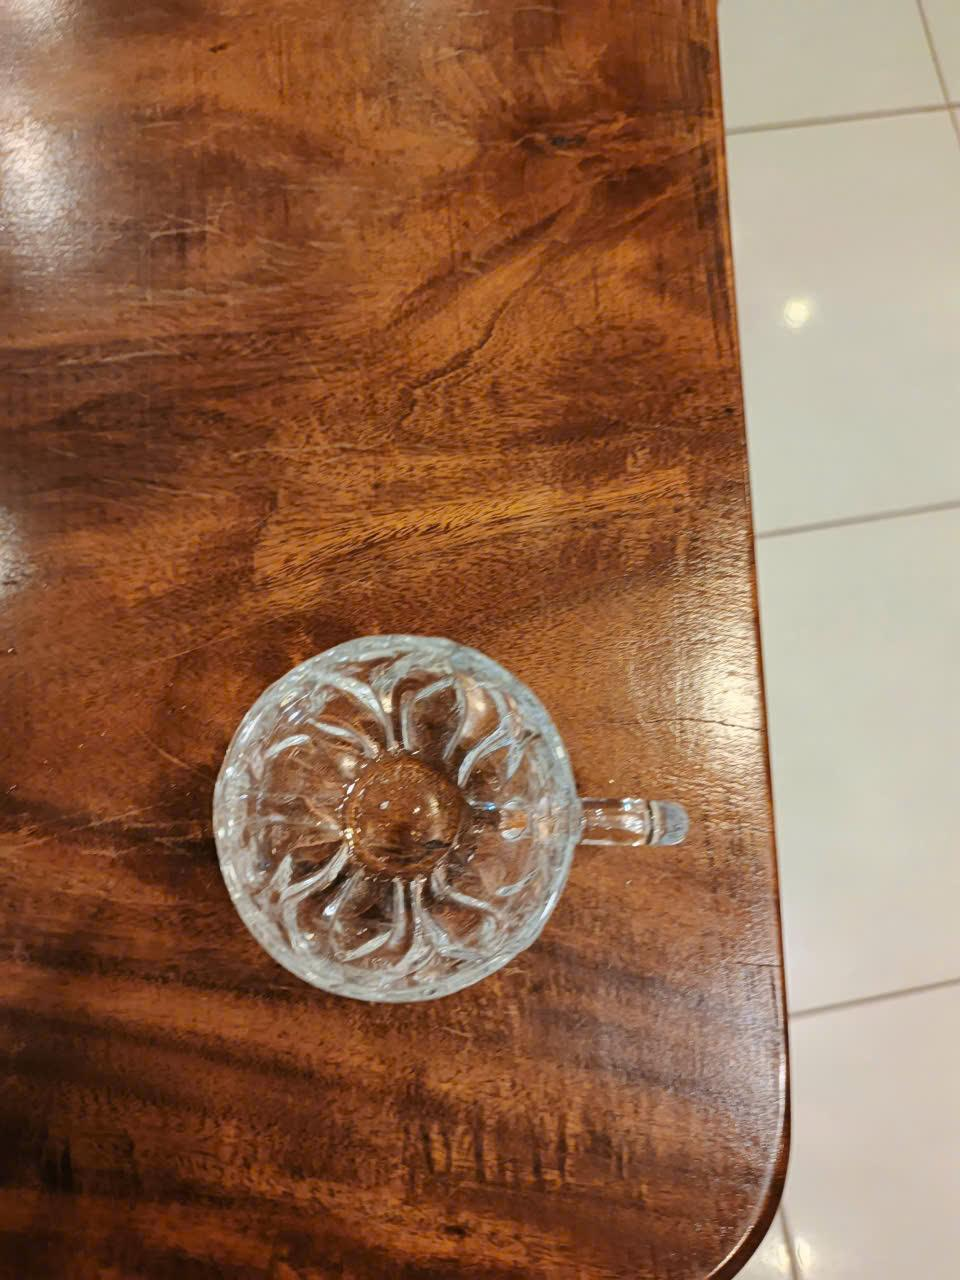Vo co: (215, 636, 692, 1005)
